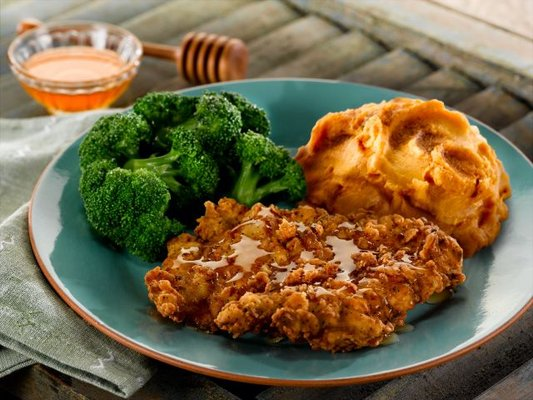curry: (78, 91, 307, 264)
sushi: (6, 21, 143, 116)
